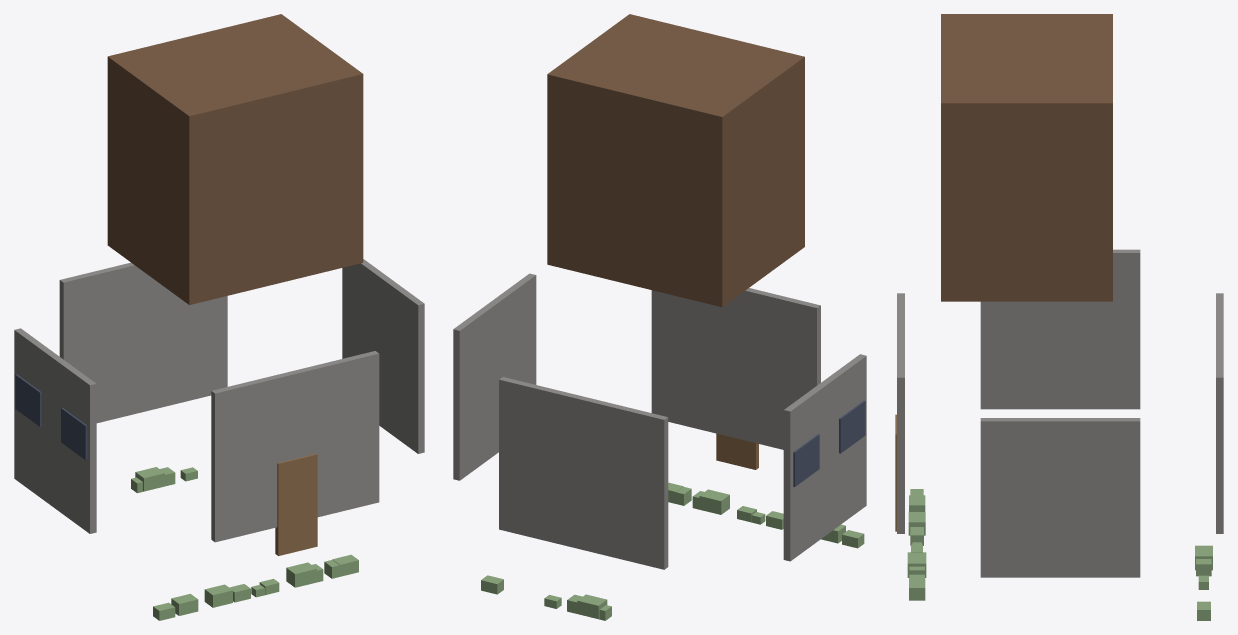
Rendered from maison-nordique-test_v2.glb.
3 renders of one model, left to right at view 1: azimuth 30°, elevation 25°; view 2: azimuth 150°, elevation 25°; view 3: azimuth 270°, elevation 25°, orthographic. The views are drawn at different scales.
Parts seen in each view (by area): view 1: maison-nordique-test; view 2: maison-nordique-test; view 3: maison-nordique-test.
Boxes of the visible parts, x1,y1,x2,y2 form: maison-nordique-test: (14, 14, 424, 620); maison-nordique-test: (453, 14, 866, 620); maison-nordique-test: (895, 14, 1223, 620).
Bounding box in the file's own units: 3.07 × 4.23 × 2.48.
